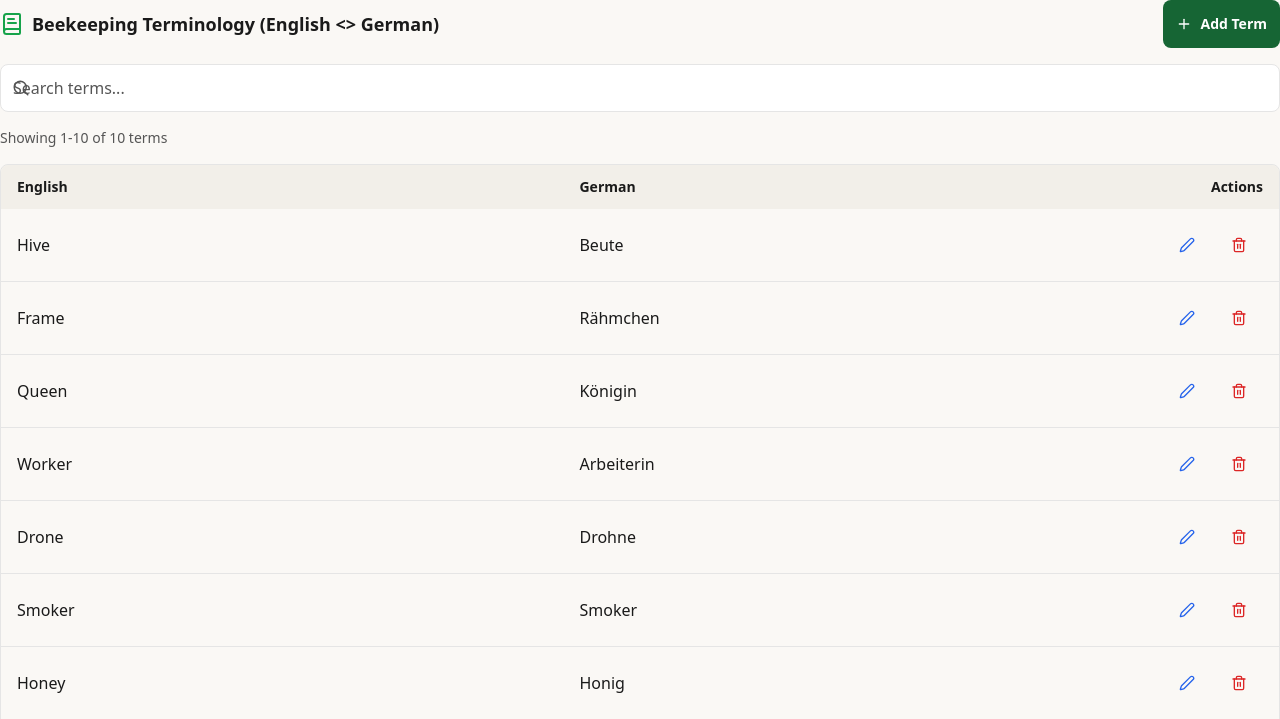
Test: TerminologyTable › Add Term Functionality › should show add form when Add Term button is clicked
Click the button "Add Term" at (1222, 24), box [1164,0,1279,48]
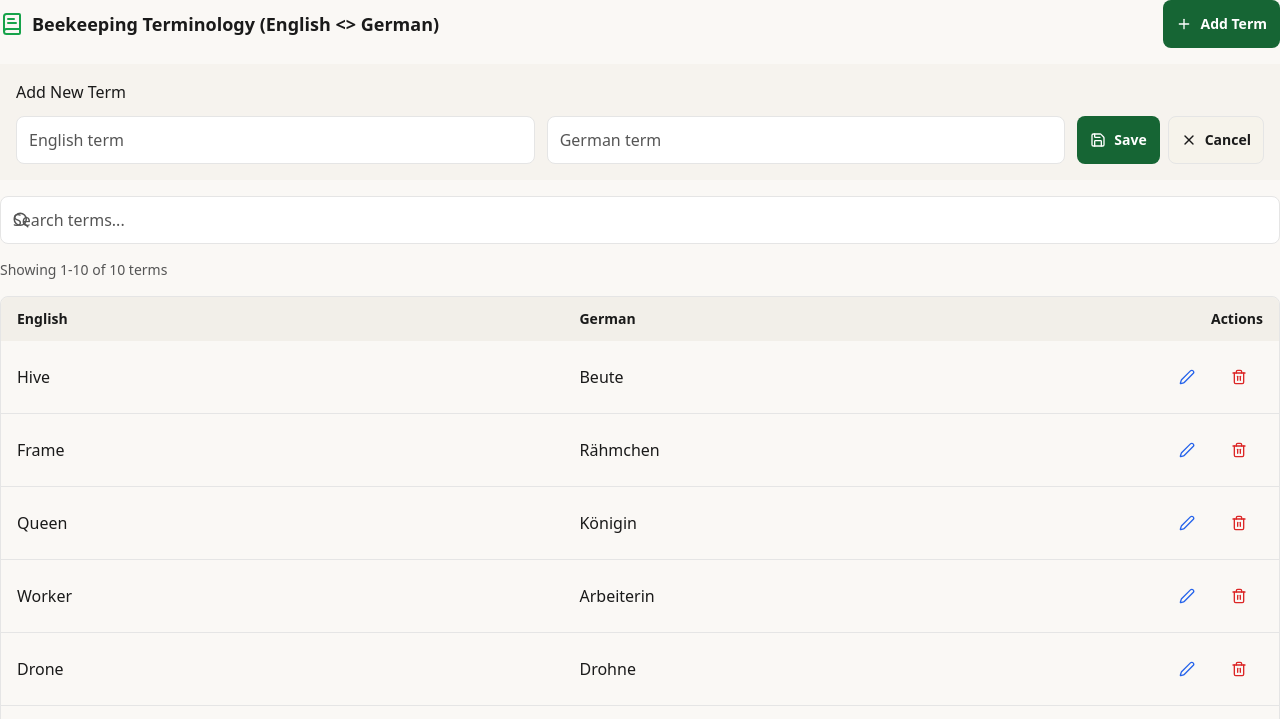
Result: the heading "Add New Term" is shown at [16,81,126,103]
Result: the field with placeholder "English term" is shown at [16,116,535,164]
Result: the field with placeholder "German term" is shown at [547,116,1065,164]
